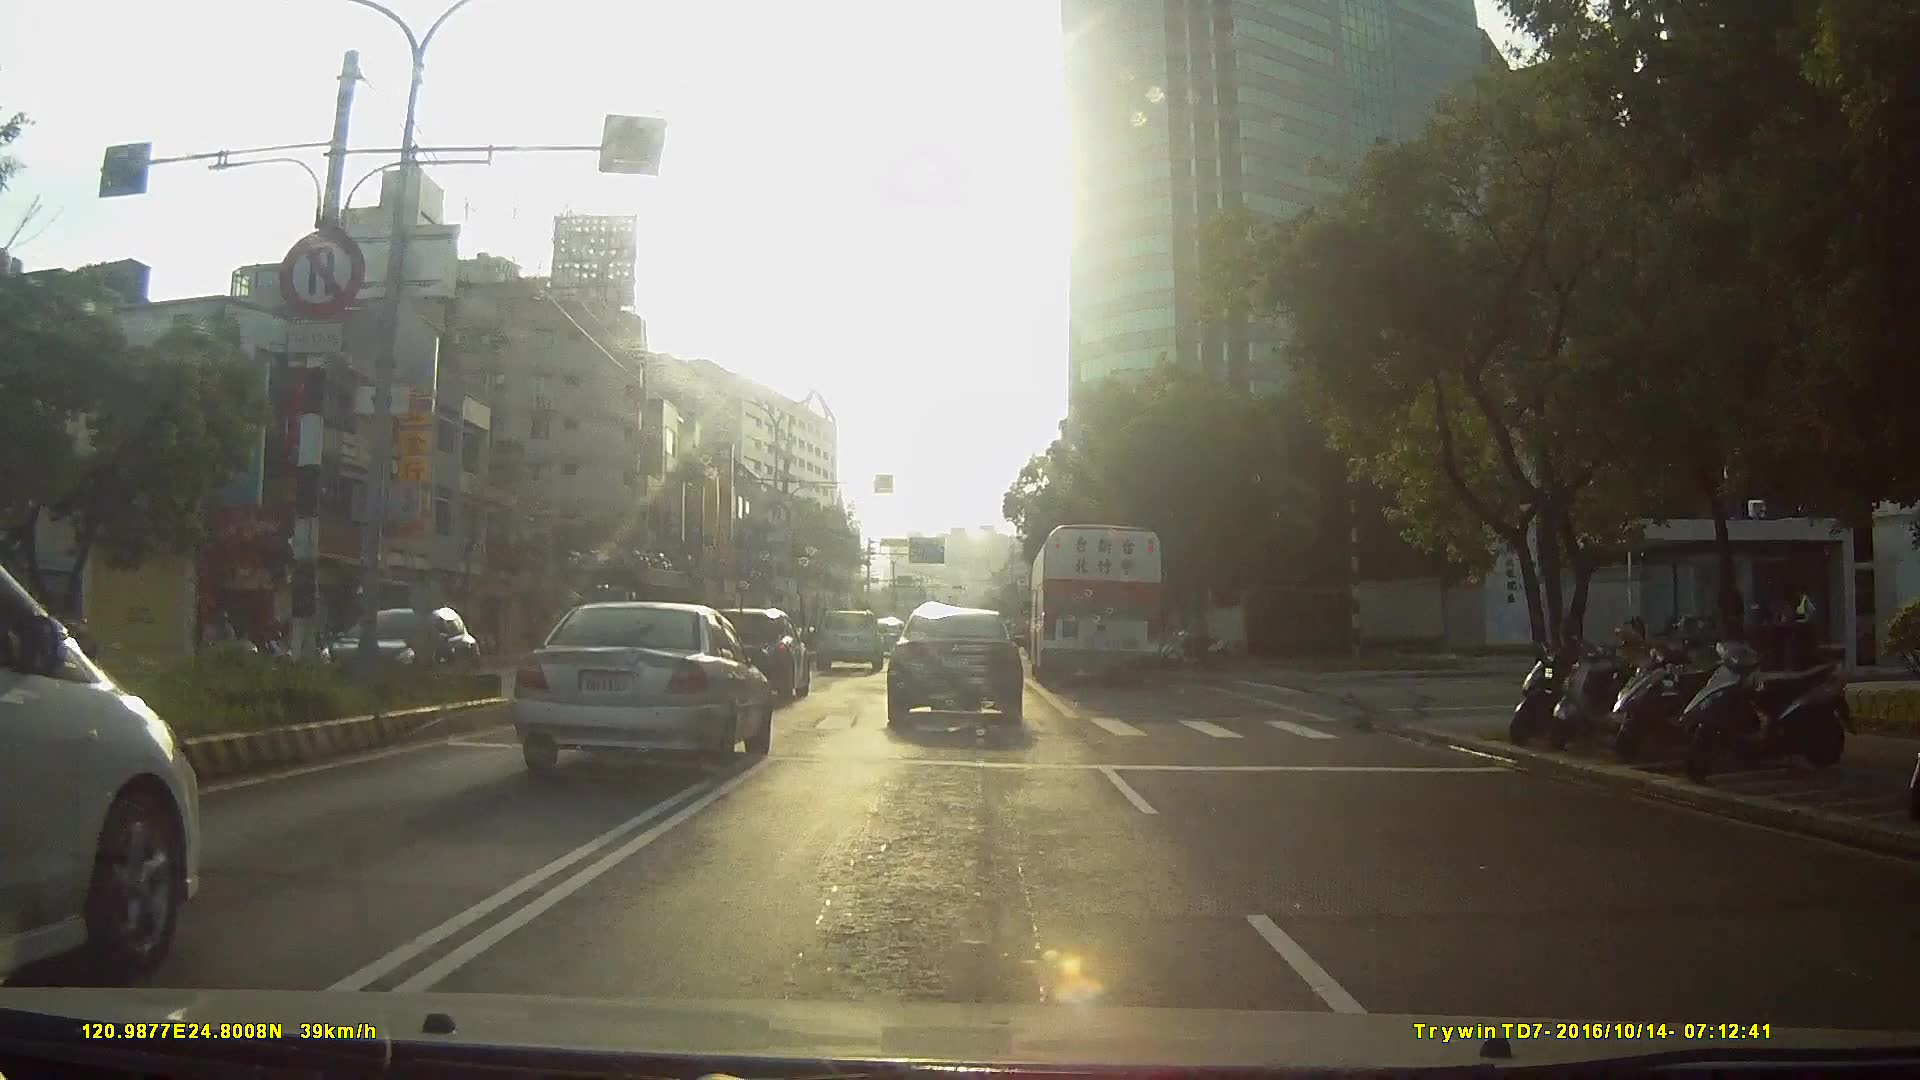vehicle: (1, 554, 214, 986), (501, 600, 770, 783), (1026, 520, 1164, 691), (309, 603, 489, 694), (886, 604, 1025, 720), (695, 607, 808, 704), (815, 607, 884, 674)
